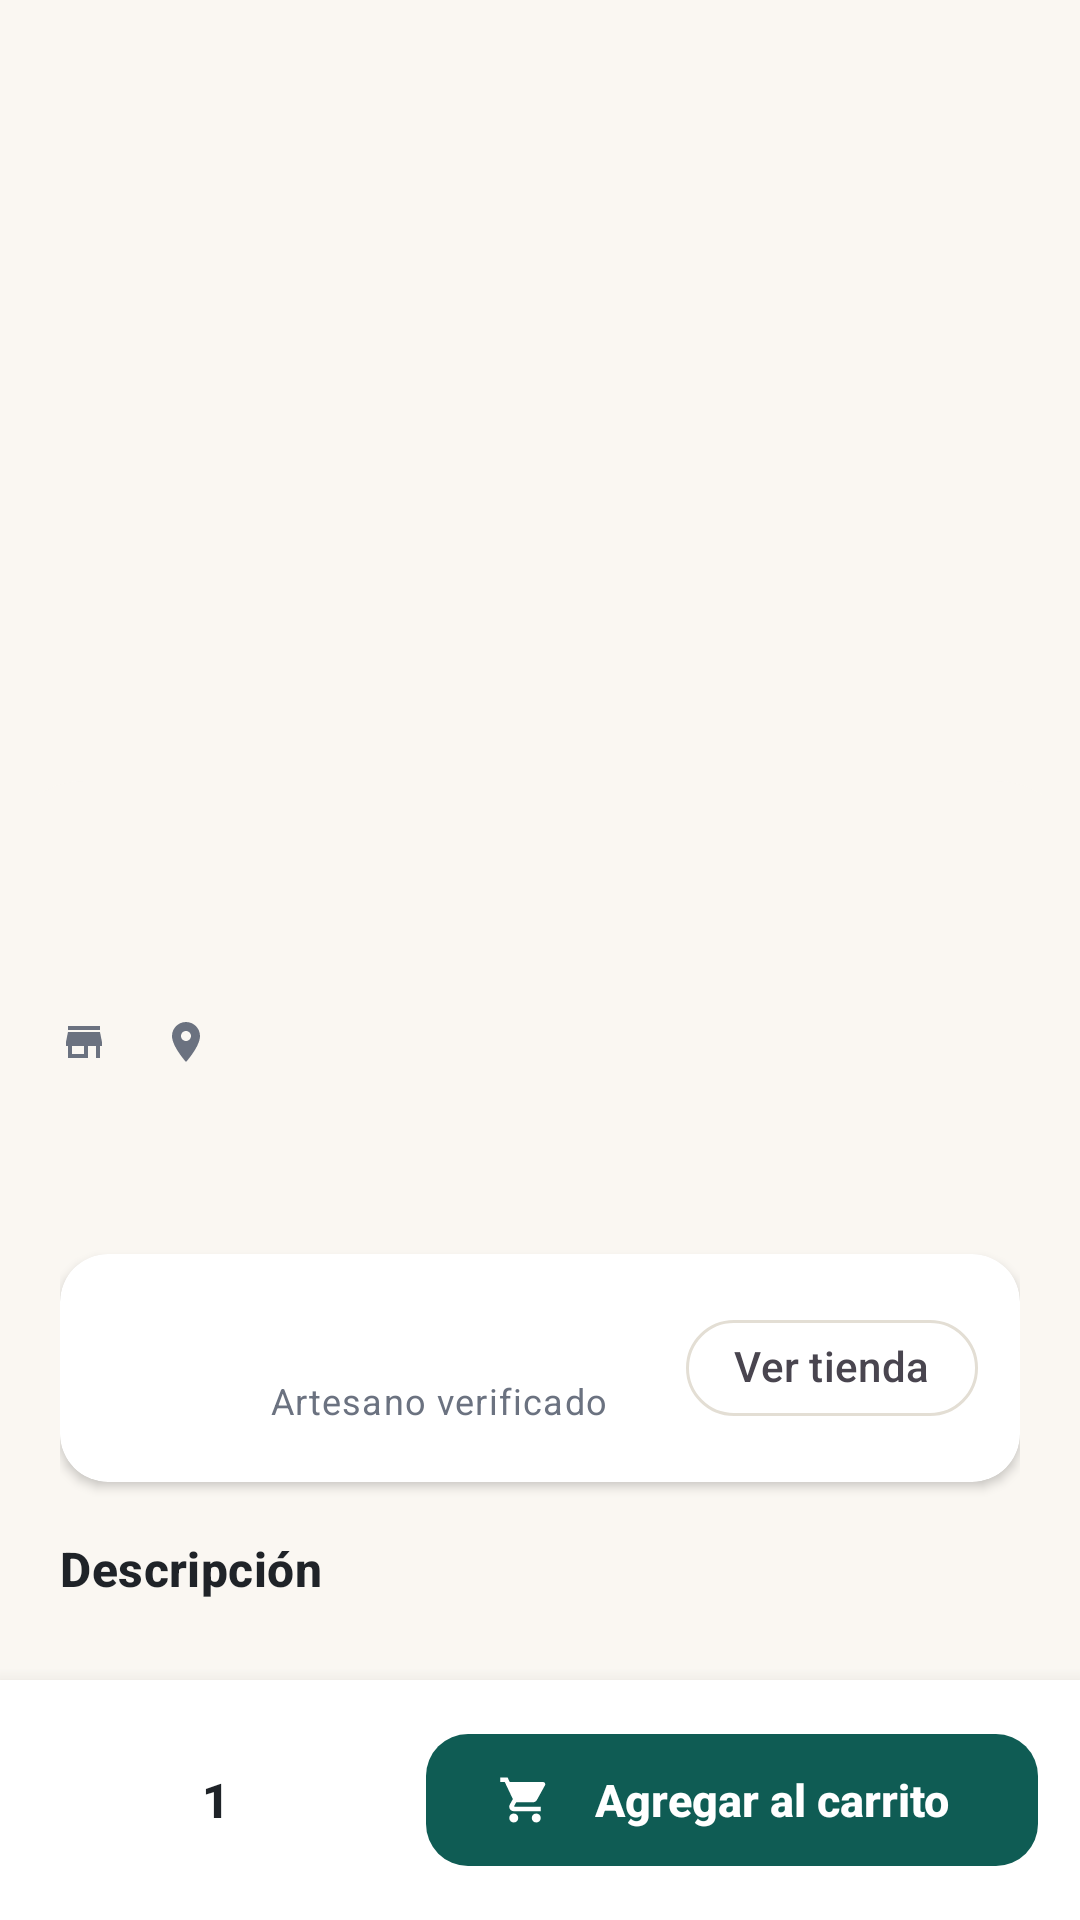

Screen size 1080px x 1920px. Icon name, then its box in pixels as {"left": x1, "top": y1, "right": x2, "bottom": y2}:
location: {"left": 172, "top": 1022, "right": 200, "bottom": 1062}
store: {"left": 66, "top": 1026, "right": 102, "bottom": 1058}
